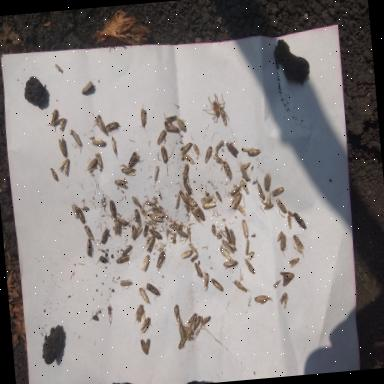pbw: (136, 102, 149, 132), (227, 192, 243, 212), (126, 150, 141, 169), (293, 211, 308, 230), (226, 140, 240, 160), (92, 114, 106, 134), (138, 316, 152, 336), (154, 249, 168, 269), (292, 232, 304, 255), (83, 224, 96, 245), (118, 162, 136, 177), (57, 131, 67, 157), (69, 127, 82, 147), (232, 278, 248, 294), (104, 118, 120, 134), (280, 270, 295, 287), (133, 303, 145, 324), (238, 218, 249, 240), (278, 232, 288, 256), (139, 337, 151, 356), (181, 149, 195, 165), (210, 277, 224, 293), (221, 238, 235, 254), (154, 130, 168, 146), (130, 224, 144, 240), (75, 205, 86, 225), (49, 108, 60, 128), (138, 286, 150, 304), (90, 136, 108, 148), (222, 160, 232, 181), (159, 145, 170, 164), (100, 224, 111, 243), (57, 158, 70, 174), (278, 292, 290, 309), (180, 162, 190, 182), (152, 164, 162, 184), (262, 172, 272, 192), (255, 182, 266, 200), (80, 80, 94, 94), (110, 136, 118, 160), (86, 158, 98, 174), (176, 118, 188, 134), (145, 237, 156, 254), (220, 244, 231, 261), (164, 120, 178, 133), (186, 312, 198, 327), (204, 146, 214, 164), (140, 255, 151, 271), (57, 116, 68, 132), (244, 258, 255, 274), (202, 272, 211, 291), (240, 179, 250, 196), (194, 261, 204, 278), (229, 183, 242, 196), (114, 178, 128, 190), (220, 106, 228, 127), (148, 228, 162, 240), (114, 215, 128, 227), (118, 278, 132, 290), (223, 225, 232, 243), (192, 314, 202, 330), (254, 294, 270, 304), (148, 212, 164, 222), (114, 254, 130, 264), (173, 304, 181, 324), (276, 198, 286, 214), (134, 207, 142, 227), (120, 243, 132, 256), (271, 186, 285, 197), (112, 220, 122, 235), (182, 180, 192, 195), (108, 199, 116, 217), (95, 152, 103, 170), (240, 164, 248, 182), (196, 206, 205, 222), (180, 142, 192, 154), (188, 242, 198, 256), (176, 336, 186, 350), (178, 190, 188, 204), (200, 195, 214, 205), (223, 260, 238, 269), (214, 140, 225, 152), (236, 204, 246, 217), (132, 195, 142, 208), (288, 257, 301, 267), (70, 203, 78, 219), (264, 192, 272, 208), (230, 228, 237, 246), (180, 249, 194, 258), (50, 167, 58, 182), (184, 324, 194, 336), (174, 195, 182, 210), (262, 200, 274, 210), (201, 202, 216, 210), (247, 148, 261, 156), (168, 222, 182, 230), (140, 206, 148, 220), (178, 324, 185, 340), (177, 228, 188, 238), (201, 316, 212, 326), (86, 238, 92, 256), (142, 224, 150, 237), (244, 238, 250, 255), (242, 160, 252, 170), (190, 253, 200, 263), (276, 231, 284, 243), (186, 193, 194, 205), (186, 227, 192, 243), (214, 190, 222, 202), (192, 144, 200, 156), (54, 63, 62, 74), (214, 156, 224, 164), (228, 241, 236, 251), (247, 250, 255, 260), (287, 215, 292, 230), (241, 146, 251, 153), (286, 210, 294, 218)
